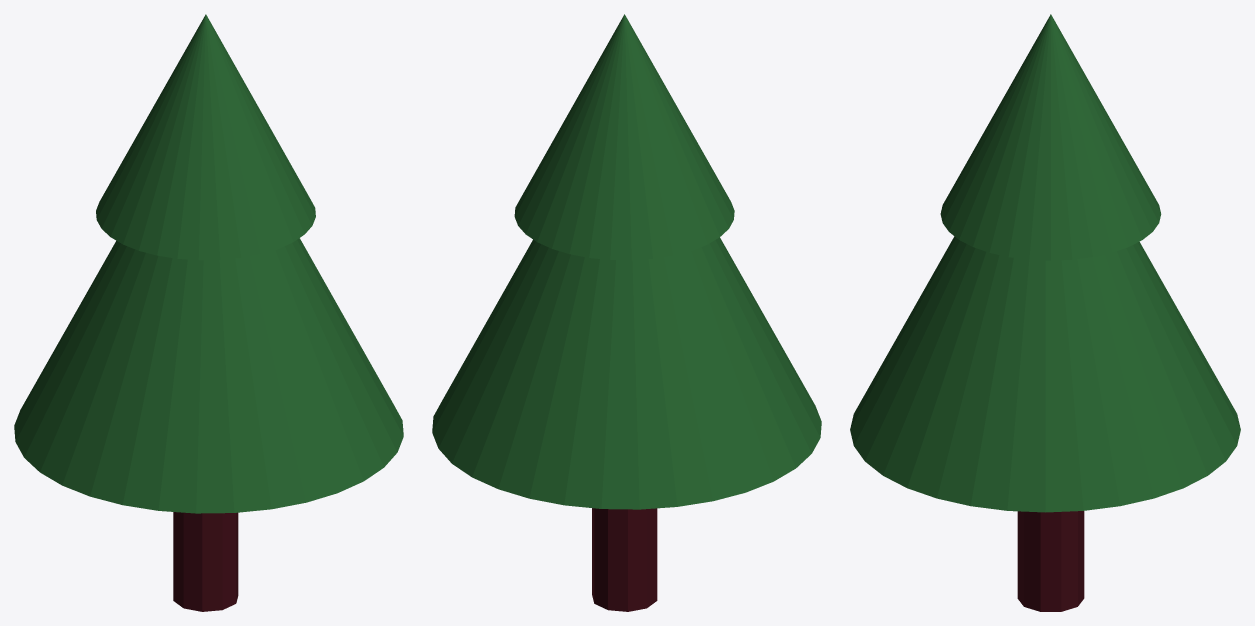
File: arvore2.fbx
3 views of the same model, side by side, from view 1: azimuth 30°, elevation 25°; view 2: azimuth 150°, elevation 25°; view 3: azimuth 270°, elevation 25° (orthographic).
Parts seen in each view (by area): view 1: Cone.001, Cone, Cylinder; view 2: Cone.001, Cone, Cylinder; view 3: Cone.001, Cone, Cylinder.
Part boxes in pixels (<box>): Cone.001: <box>14,238,403,513</box>; Cone: <box>96,14,315,260</box>; Cylinder: <box>173,512,238,611</box>; Cone.001: <box>432,237,821,509</box>; Cone: <box>514,14,734,260</box>; Cylinder: <box>592,508,657,611</box>; Cone.001: <box>850,236,1240,512</box>; Cone: <box>940,14,1161,260</box>; Cylinder: <box>1017,511,1084,611</box>.
Bounding box in the file's own units: 354 × 584 × 354.
